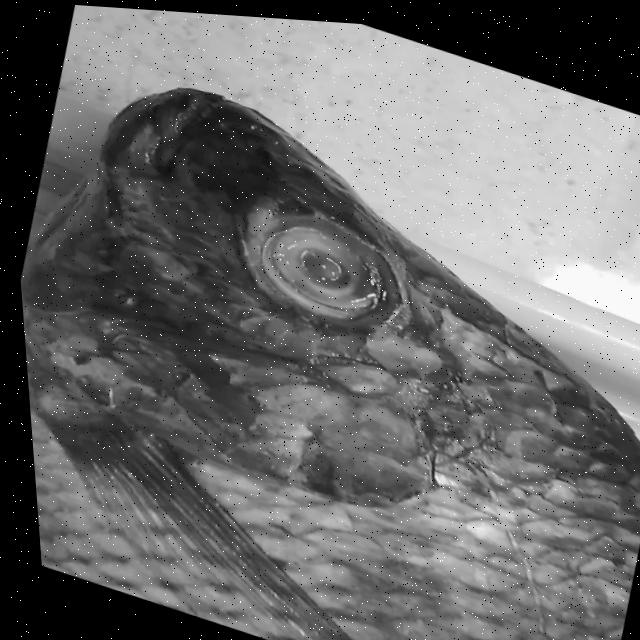Non-Fresh: (17, 289, 610, 640), (248, 204, 406, 333)
